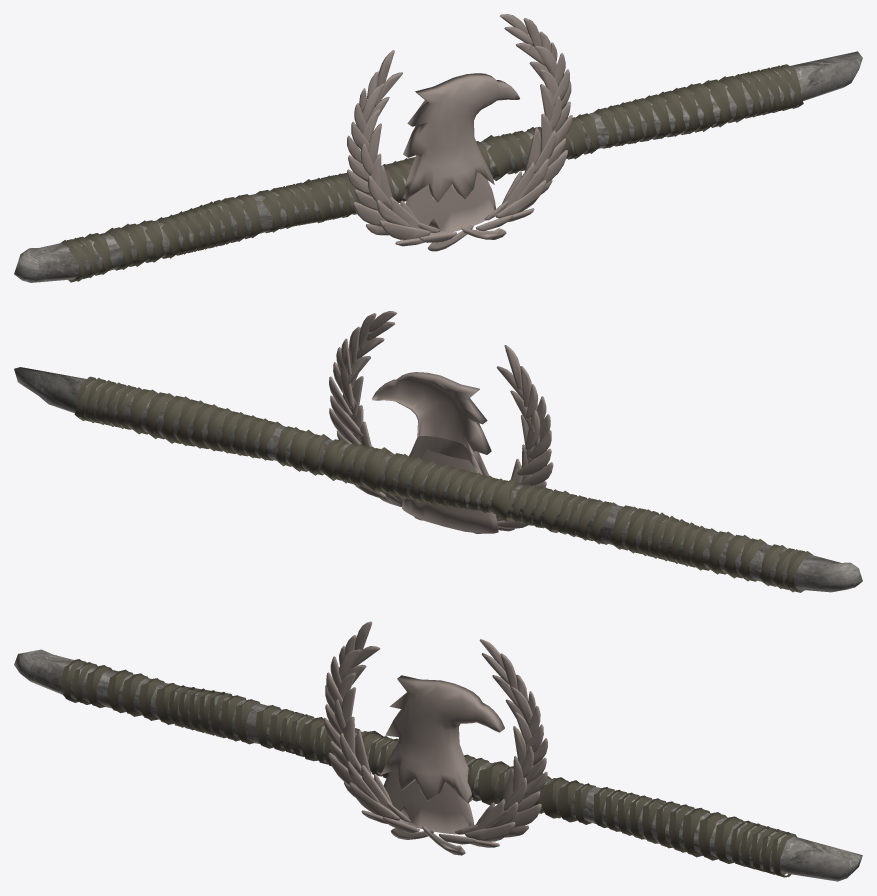
The model's file is palka_5.glb.
3 views of the same model, one above another, from view 1: azimuth 30°, elevation 25°; view 2: azimuth 150°, elevation 25°; view 3: azimuth 330°, elevation 25° (orthographic).
Parts seen in each view (by area): view 1: palka_5; view 2: palka_5; view 3: palka_5.
Boxes of the visible parts, bbox=[...] form: palka_5: bbox=[14, 14, 862, 282]; palka_5: bbox=[14, 311, 862, 592]; palka_5: bbox=[14, 621, 862, 881].
Size of the model in its own units: 84.66 by 20.32 by 5.69.
6 materials, 1 textured.
